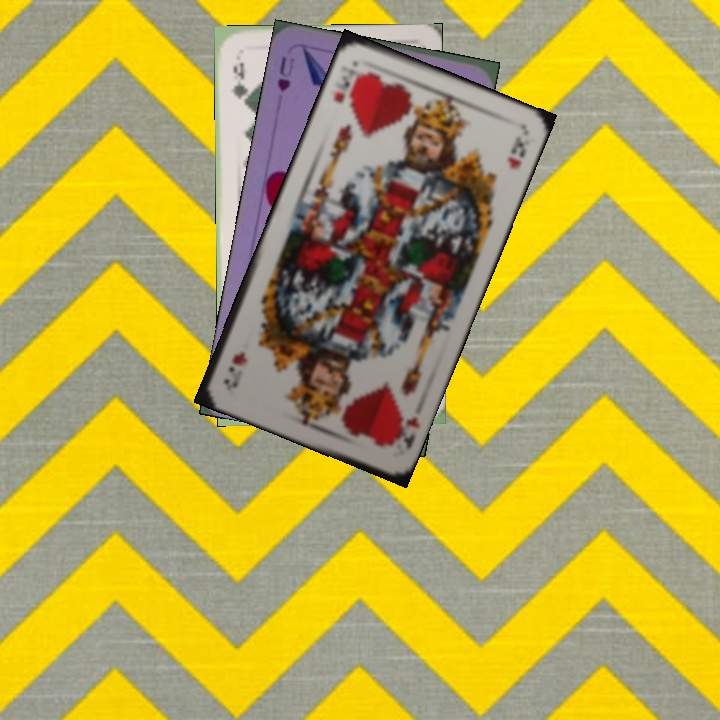G9: (228, 57, 248, 107)
HK: (385, 406, 422, 453), (329, 66, 362, 106)
HU: (273, 52, 297, 94)
